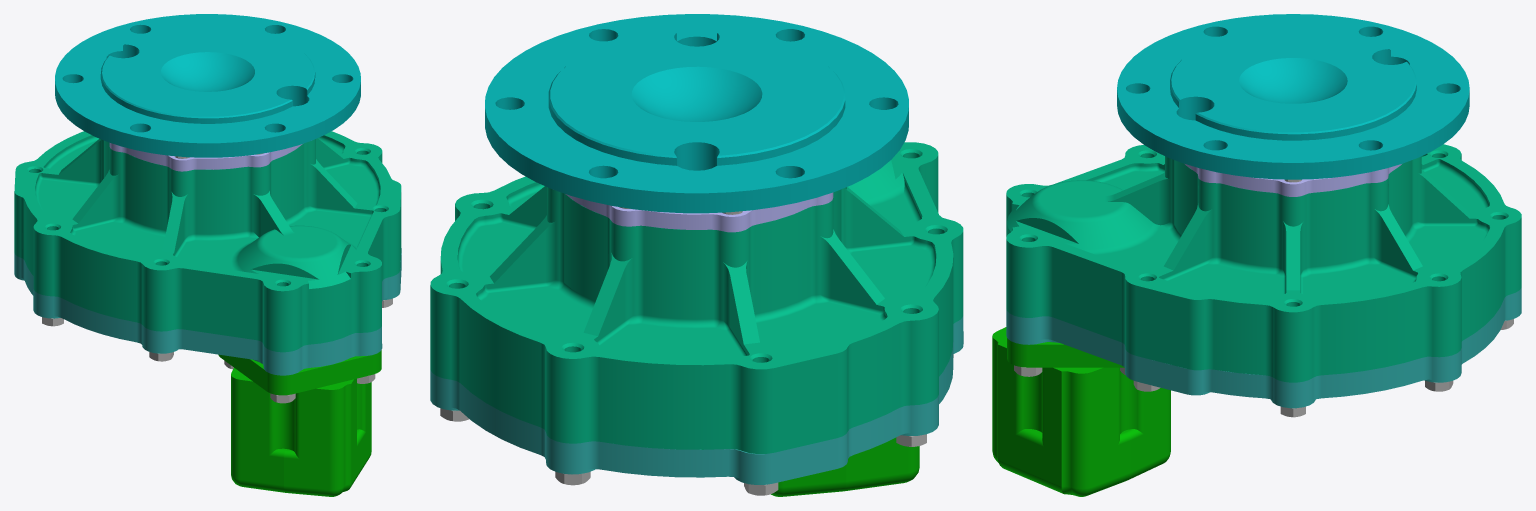
The model's file is reducer.gltf.
The picture shows the model from 3 angles, left to right: view 1: azimuth 30°, elevation 25°; view 2: azimuth 150°, elevation 25°; view 3: azimuth 270°, elevation 25°; orthographic projection. The views are drawn at different scales.
Parts seen in each view (by area): view 1: Оболочка (×5); view 2: Оболочка (×5); view 3: Оболочка (×5).
Part boxes in pixels (left/top/right/bottom): Оболочка (×5): left=14, top=14, right=401, bottom=496; Оболочка (×5): left=430, top=14, right=963, bottom=496; Оболочка (×5): left=992, top=14, right=1521, bottom=496.
Bounding box in the file's own units: 324 × 300 × 375.
